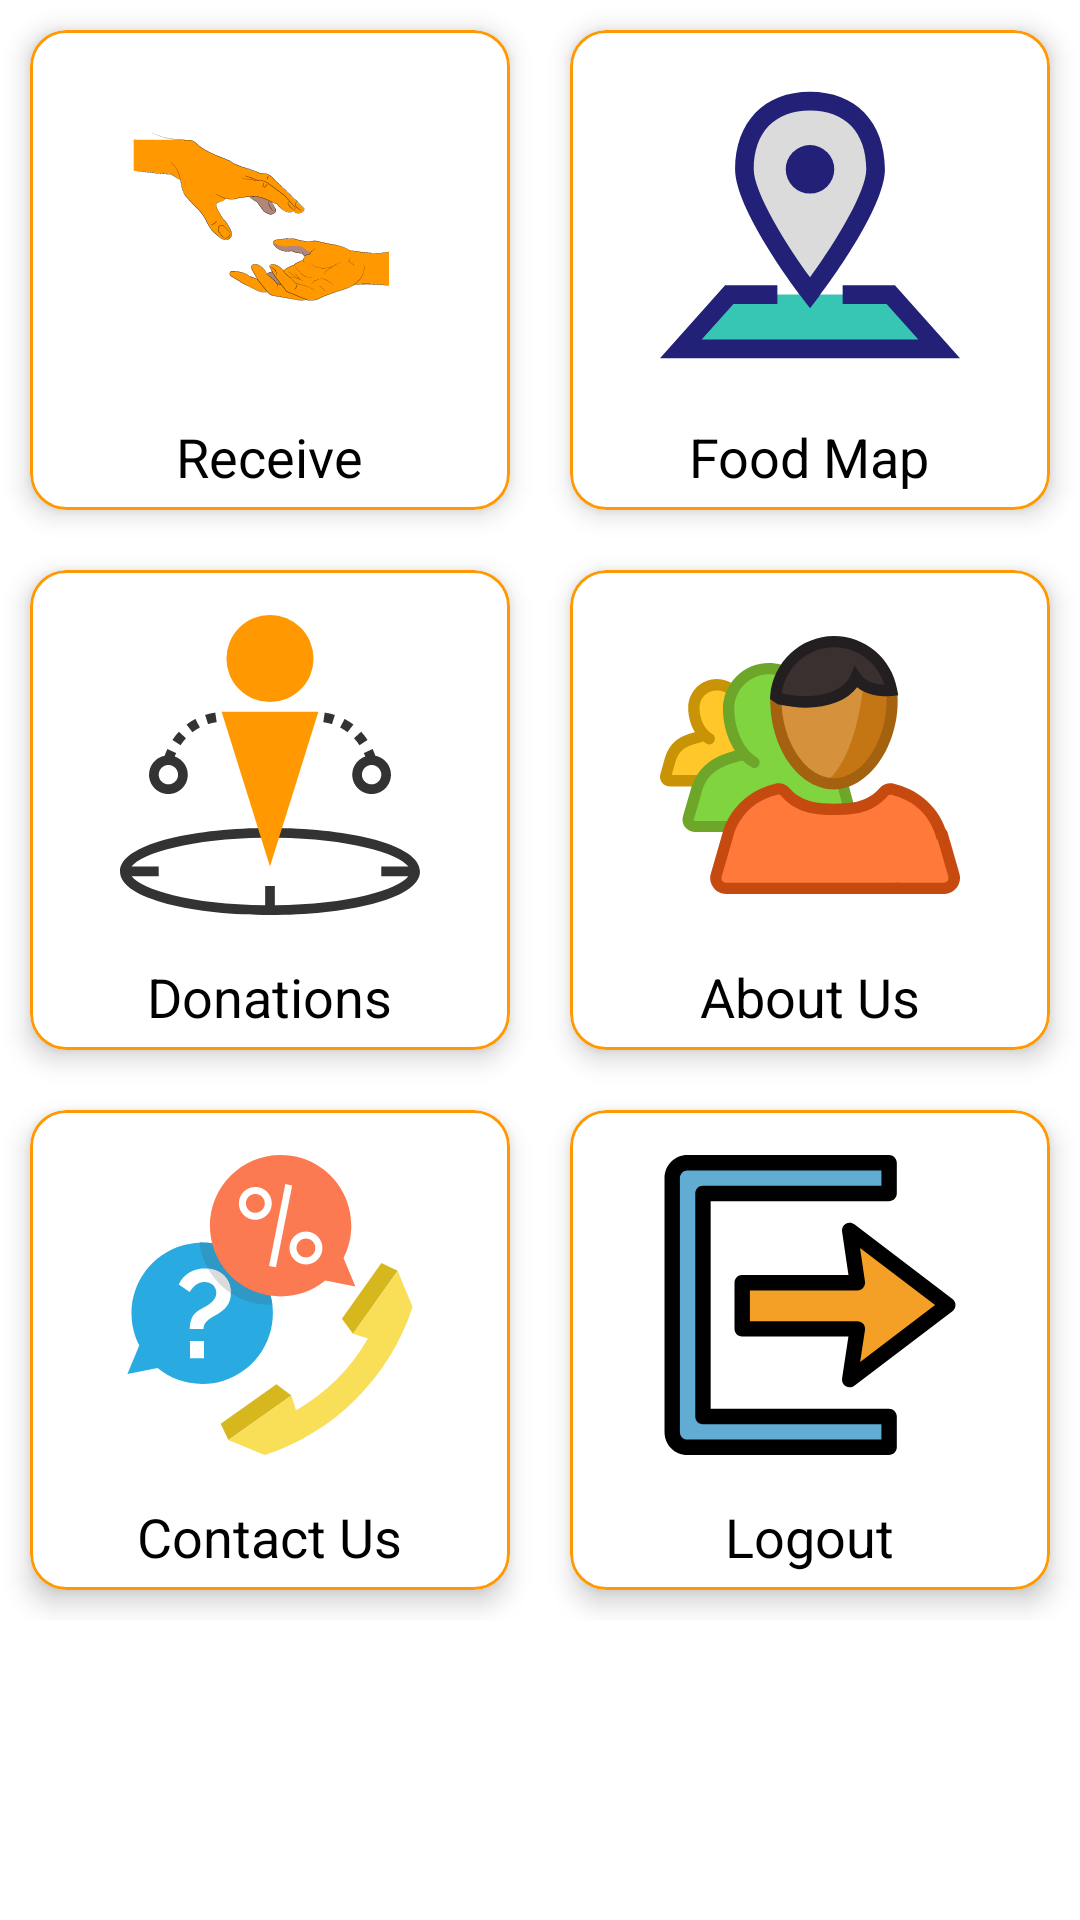

Named icons in this screenshot (1080x1920) and their bounding boxes, [x1,y1,x2,y2]:
customer service: [127,1155,413,1455]
group people: [660,636,960,894]
pin map location: [660,91,960,359]
